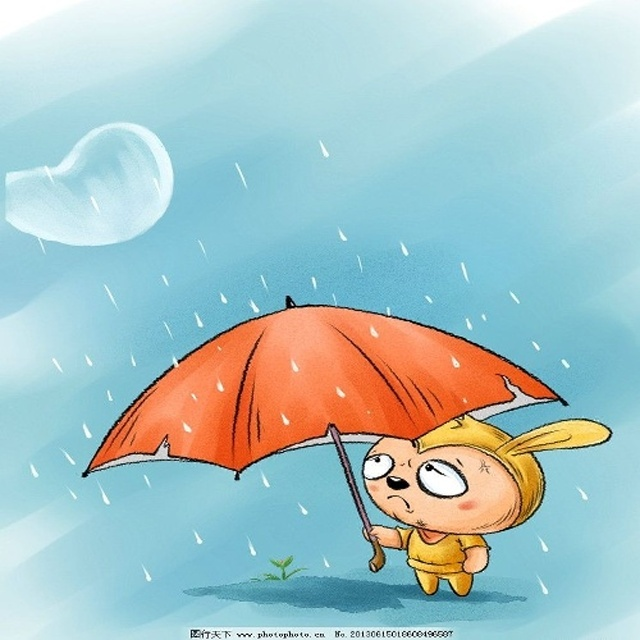umbrella: (77, 293, 573, 577)
